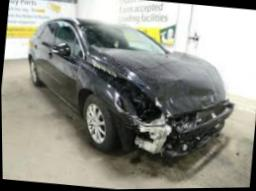Bonnet: (88, 46, 233, 115)
Bumper: (128, 103, 238, 159)
Fender: (77, 64, 139, 130)
Light: (120, 89, 165, 121)
